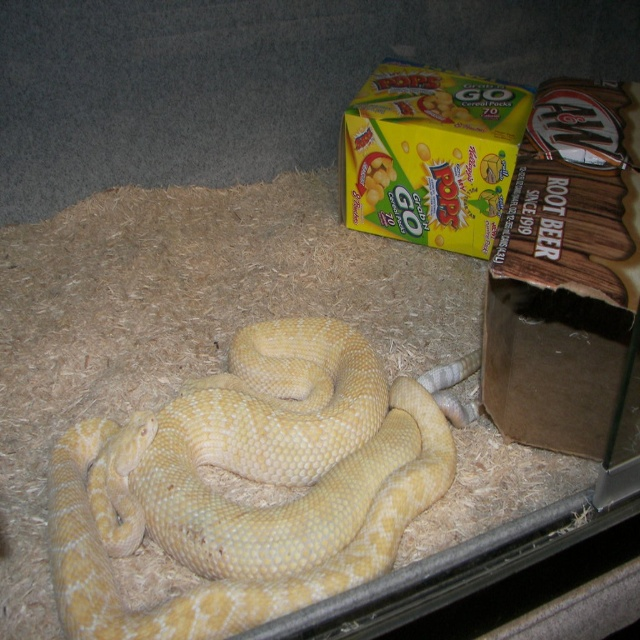Snake: (51, 309, 482, 639)
